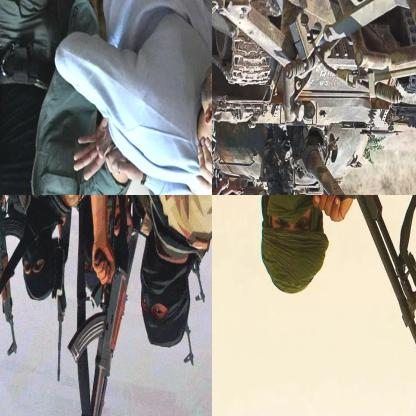rifle: (280, 195, 415, 415), (64, 242, 139, 415), (0, 208, 38, 366), (48, 245, 74, 384), (194, 253, 209, 308), (183, 326, 198, 374)
